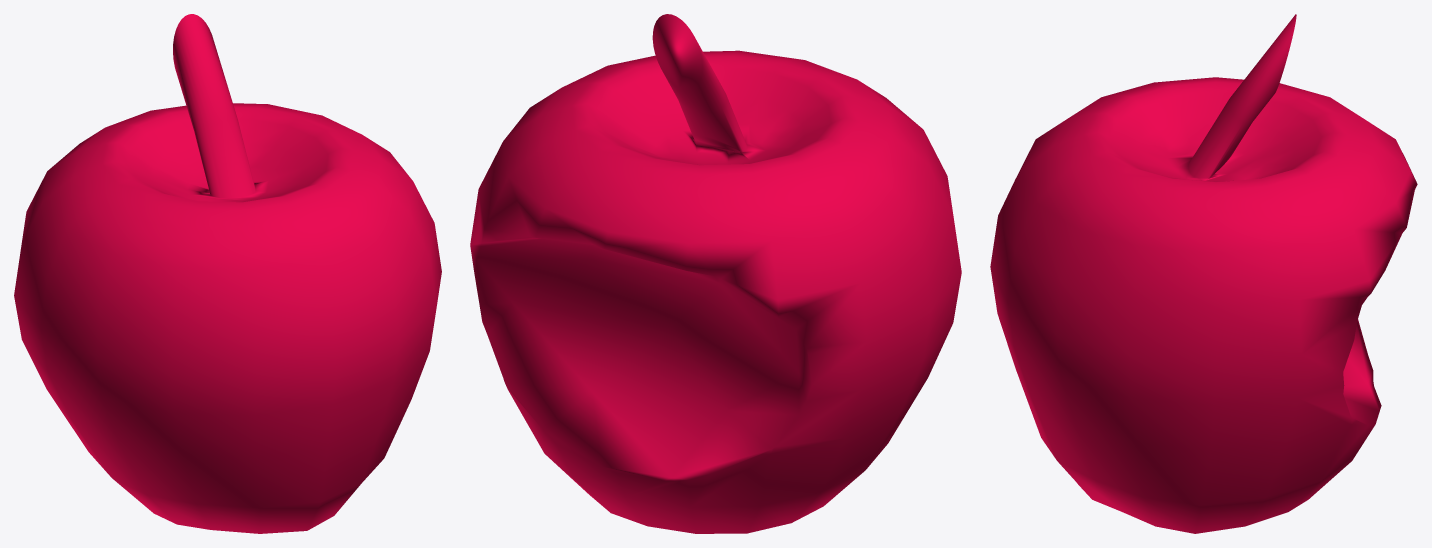
File: Manzana.fbx
3 views of the same model, side by side, from view 1: azimuth 30°, elevation 25°; view 2: azimuth 150°, elevation 25°; view 3: azimuth 270°, elevation 25° (orthographic). The views are drawn at different scales.
Visible parts, largest first — view 1: Cylinder.003; view 2: Cylinder.003; view 3: Cylinder.003.
Boxes of the visible parts, x1,y1,x2,y2 form: Cylinder.003: [14, 14, 441, 533]; Cylinder.003: [470, 14, 961, 533]; Cylinder.003: [990, 14, 1417, 533].
Size of the model in its own units: 172 by 195 by 163.
